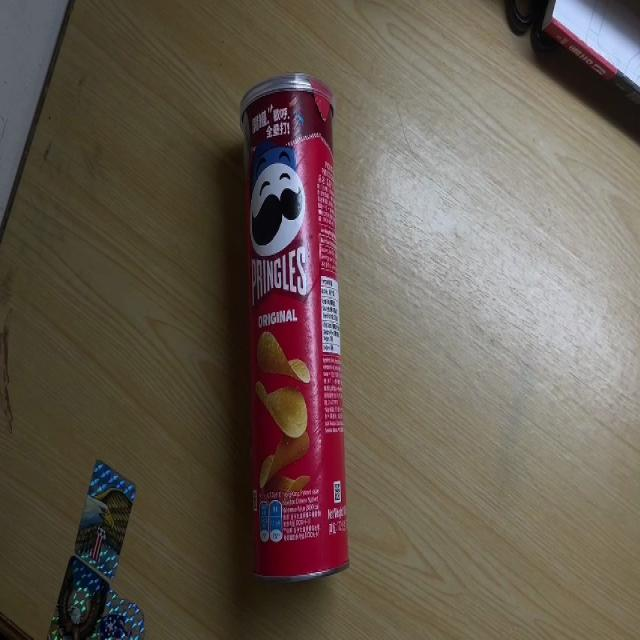Pringles: (238, 70, 350, 584)
